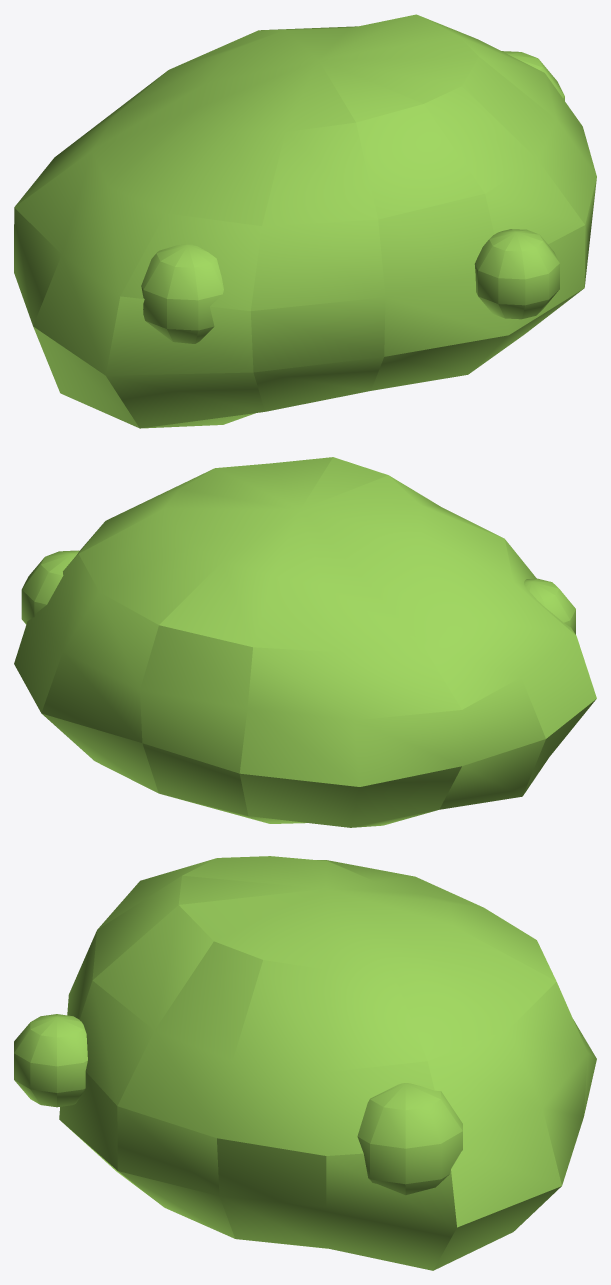
The model's file is item_chemie.obj.
The picture shows the model from 3 angles, top to bottom: view 1: azimuth 30°, elevation 25°; view 2: azimuth 150°, elevation 25°; view 3: azimuth 270°, elevation 25°; orthographic projection. The views are drawn at different scales.
Visible parts, largest first — view 1: item_chemie_Koerper; view 2: item_chemie_Koerper; view 3: item_chemie_Koerper.
Part boxes in pixels (bbox=[...]): item_chemie_Koerper: bbox=[14, 14, 596, 428]; item_chemie_Koerper: bbox=[14, 457, 596, 827]; item_chemie_Koerper: bbox=[14, 856, 596, 1270].
Size of the model in its own units: 0.4221 by 0.2256 by 0.3679.
